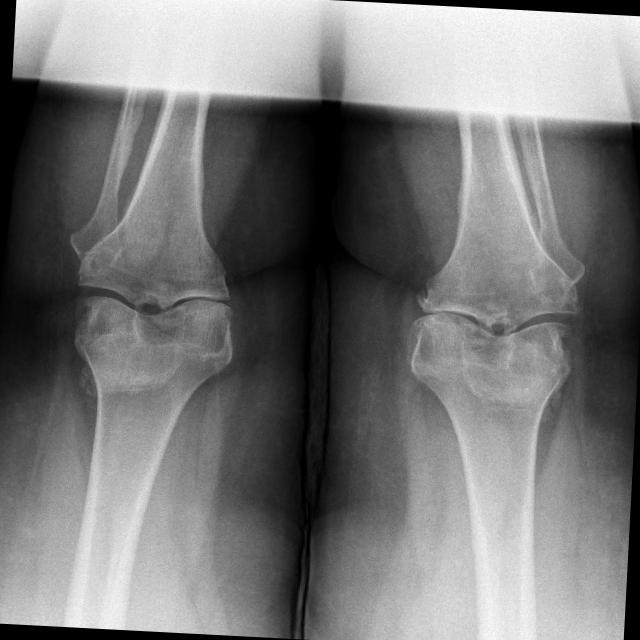Knee: (402, 248, 582, 402), (66, 236, 240, 374)
